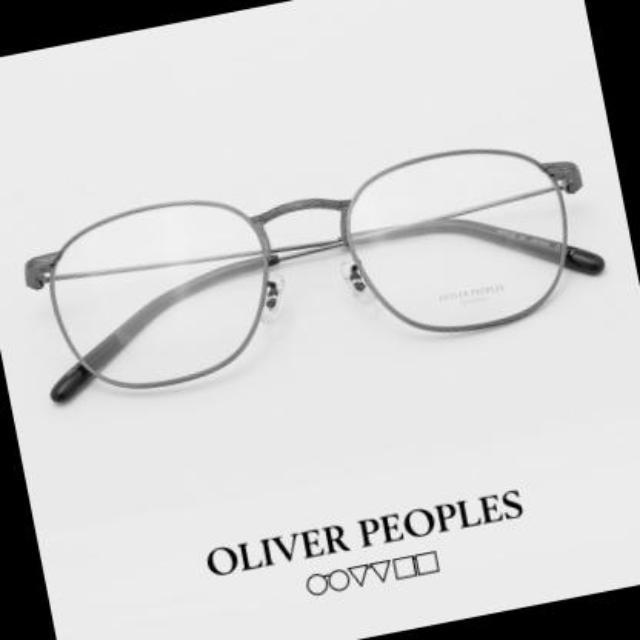glasses: (27, 147, 603, 405)
